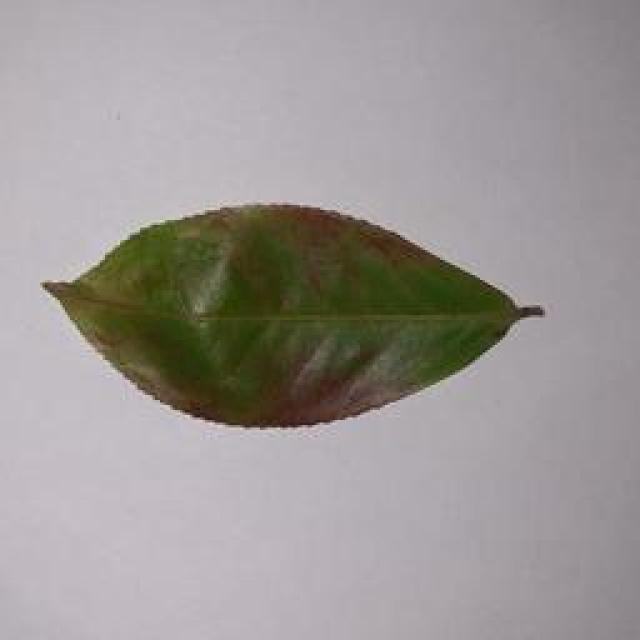Red Leaf Spot: (42, 196, 545, 436)
